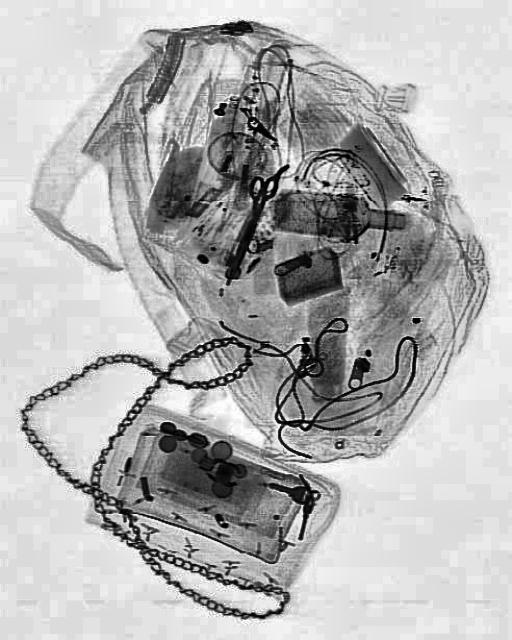Scissors: (218, 166, 282, 290)
